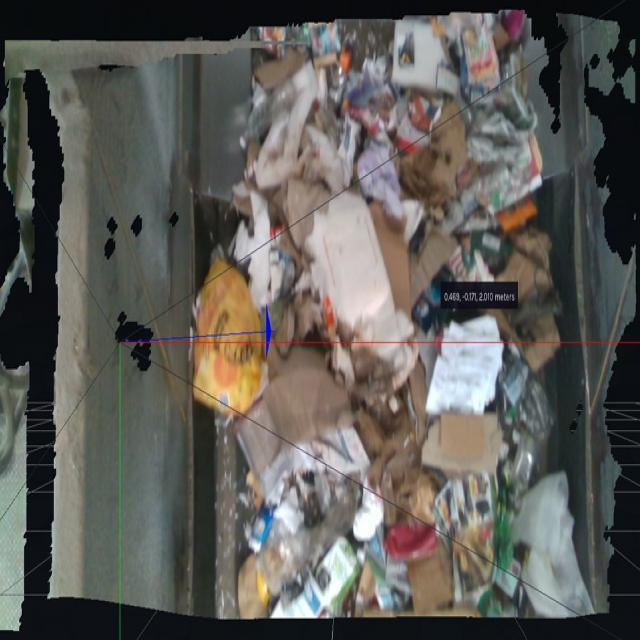waste: (190, 262, 267, 410)
